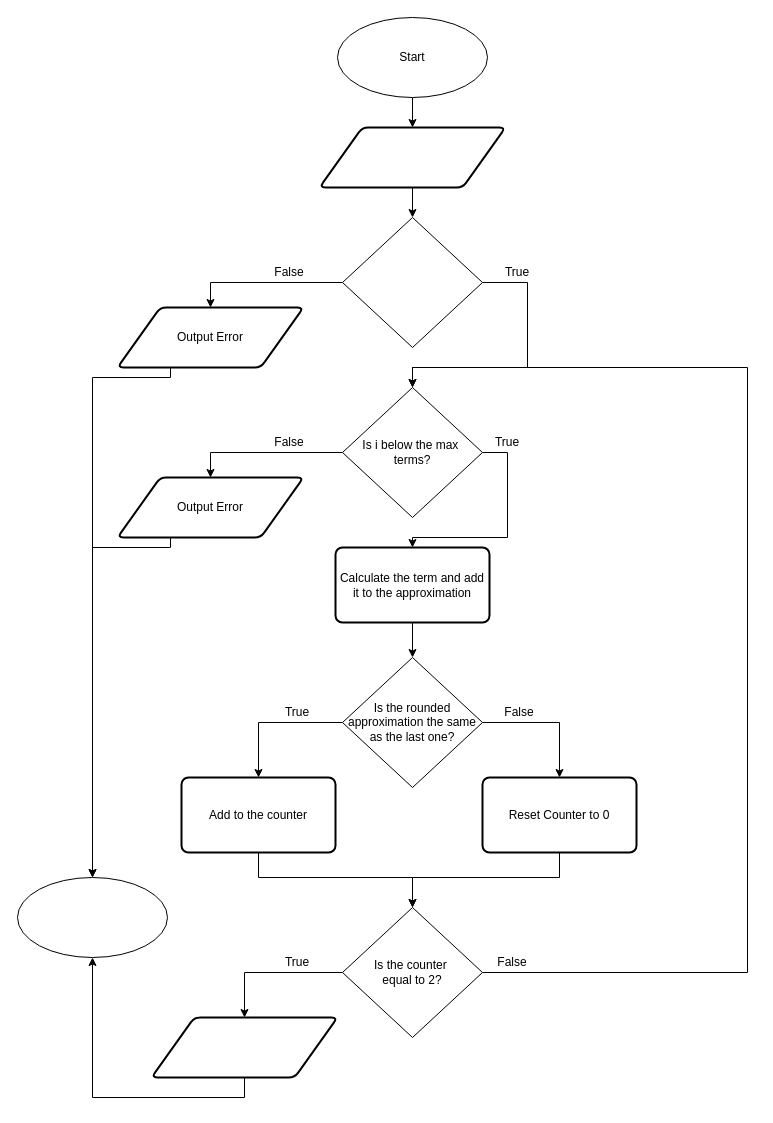
Some shapes in this 773 by 1123 pixel diagram are drawn without their labels. The shapes that lost their labels are listed below. From the top down, each one's centre as x and y in pixels, then its label:
the point at 412,157: Input values
the point at 412,282: Are inputs are valid?
the point at 92,917: End
the point at 244,1047: Output results
